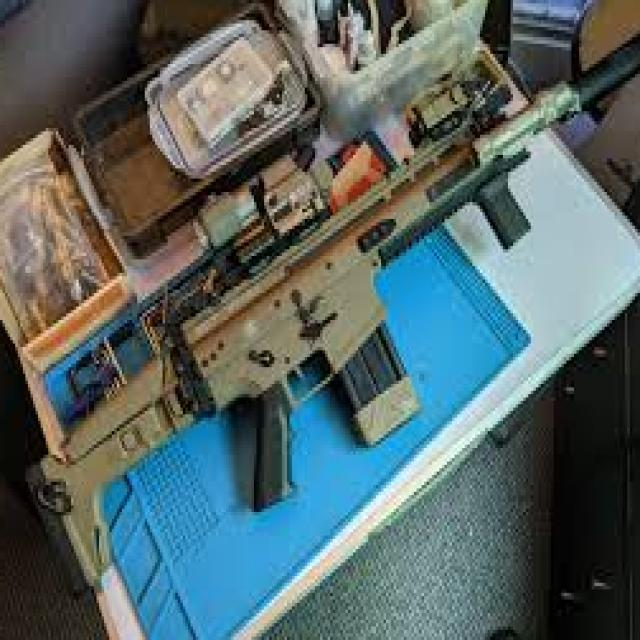Gun: (26, 7, 640, 593)
